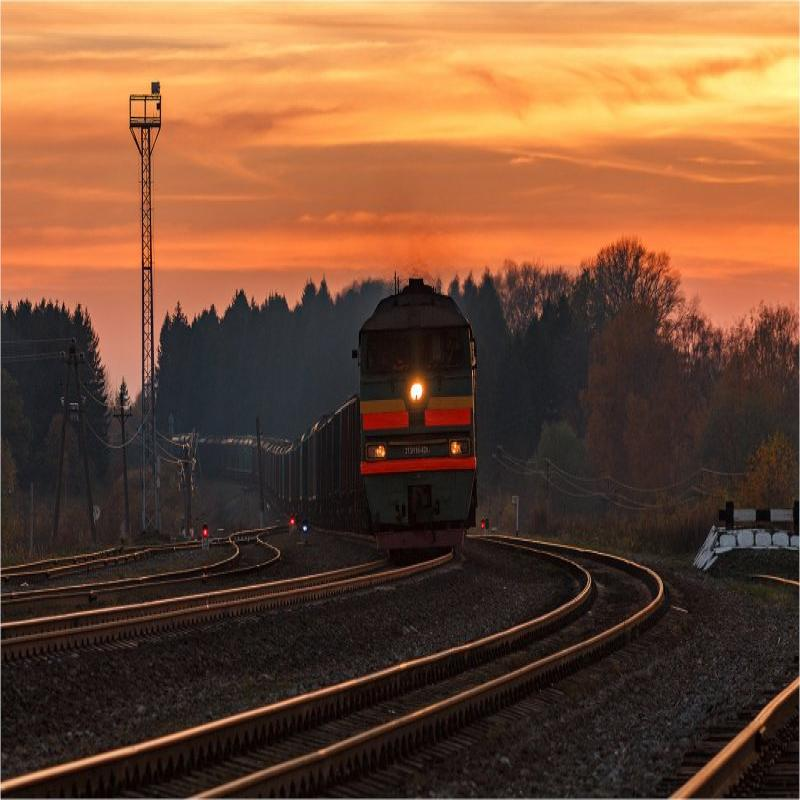train: (352, 281, 482, 553)
